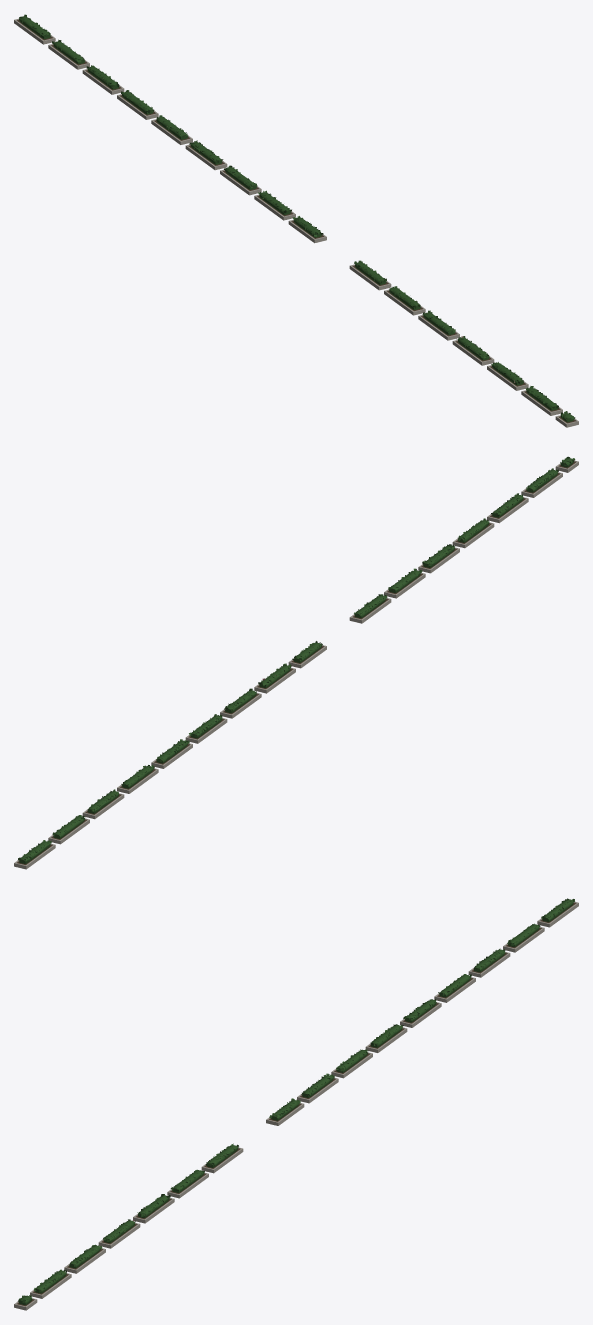
Rendered from xs_planters.glb.
3 renders of one model, top to bottom at view 1: azimuth 30°, elevation 25°; view 2: azimuth 150°, elevation 25°; view 3: azimuth 330°, elevation 25°, orthographic.
Parts seen in each view (by area): view 1: SEASON_AZALEA_off_xs_core, xs_planter_frame, SEASON_AZALEA_off_xs_hedge, xs_planter_soil; view 2: SEASON_AZALEA_off_xs_core, xs_planter_frame, SEASON_AZALEA_off_xs_hedge, xs_planter_soil; view 3: SEASON_AZALEA_off_xs_core, xs_planter_frame, SEASON_AZALEA_off_xs_hedge, xs_planter_soil.
Part boxes in pixels (bbox=[...]): SEASON_AZALEA_off_xs_core: bbox=[19, 16, 573, 422]; xs_planter_frame: bbox=[14, 18, 578, 427]; SEASON_AZALEA_off_xs_hedge: bbox=[19, 14, 575, 420]; xs_planter_soil: bbox=[17, 20, 575, 423]; SEASON_AZALEA_off_xs_core: bbox=[19, 458, 573, 864]; xs_planter_frame: bbox=[14, 460, 578, 869]; SEASON_AZALEA_off_xs_hedge: bbox=[18, 456, 575, 860]; xs_planter_soil: bbox=[17, 461, 575, 865]; SEASON_AZALEA_off_xs_core: bbox=[19, 899, 573, 1305]; xs_planter_frame: bbox=[14, 902, 578, 1310]; SEASON_AZALEA_off_xs_hedge: bbox=[18, 898, 574, 1303]; xs_planter_soil: bbox=[17, 903, 575, 1306].
Size of the model in its own units: 1.7 by 1.06 by 132.
6 materials, 5 textured.
